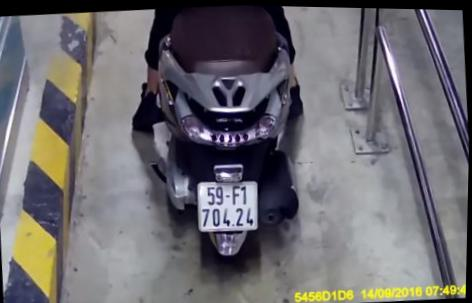LP: (196, 177, 261, 233)
